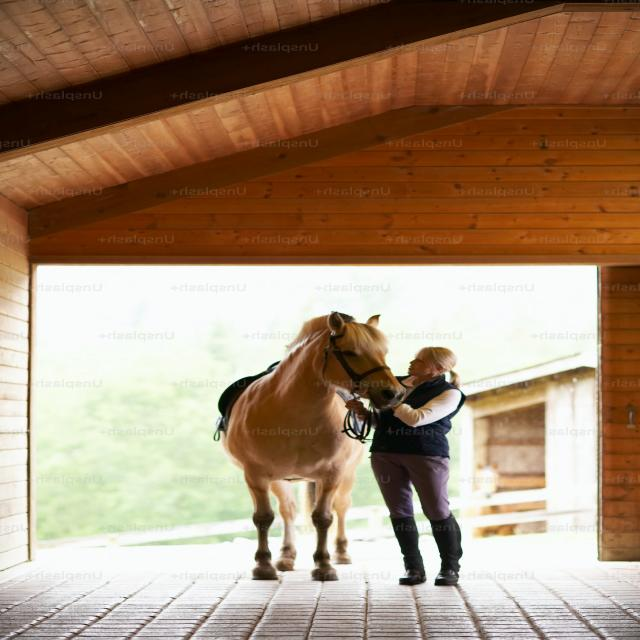adult: (344, 344, 464, 586)
